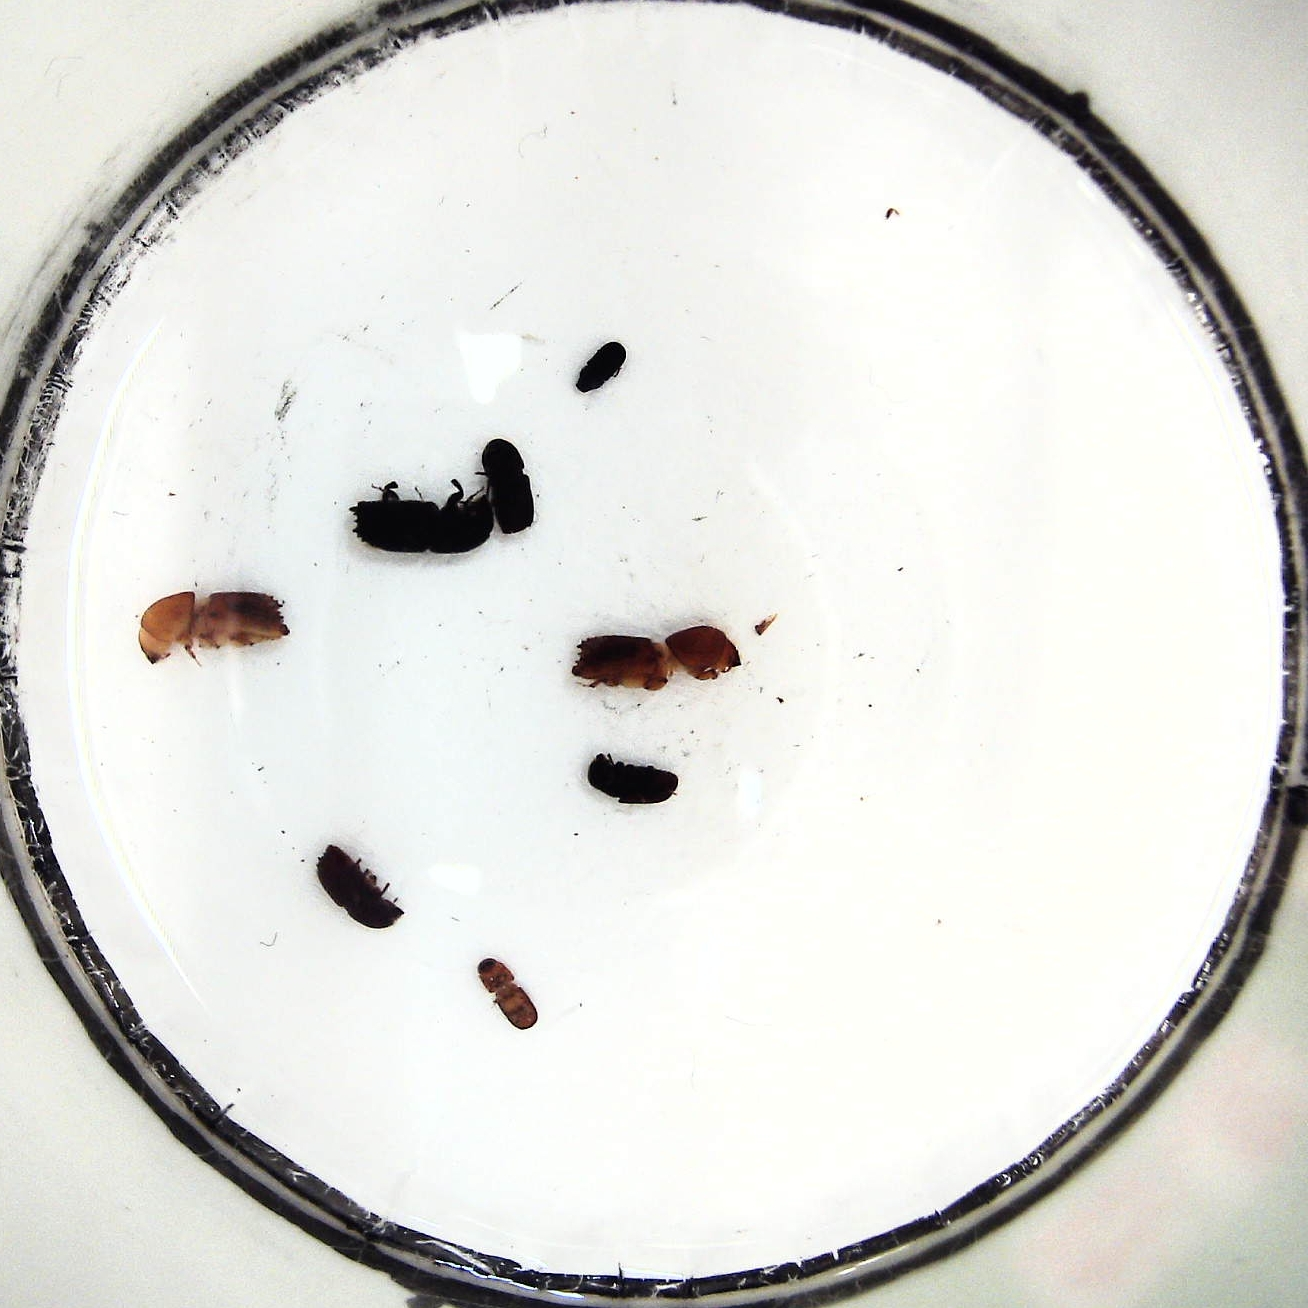Boerner: (135, 587, 295, 670), (571, 623, 740, 697), (351, 480, 495, 557)
Linnaeus: (313, 843, 405, 929), (485, 436, 538, 538)
acuminatus: (476, 952, 540, 1029)
armandi: (585, 746, 682, 810)
coleoptera: (574, 339, 631, 398)
